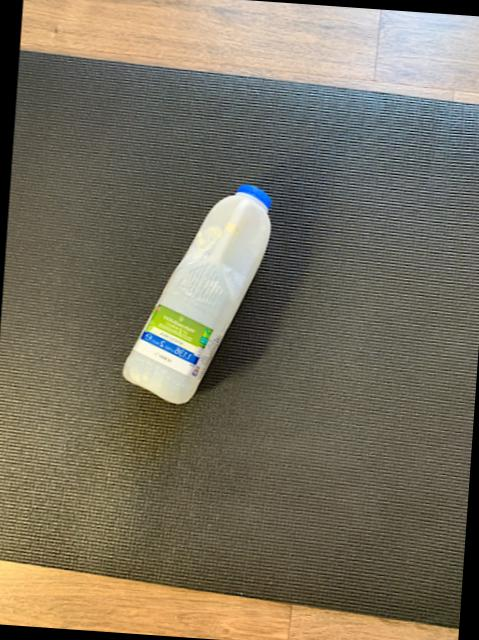plastic: (123, 184, 270, 402)
